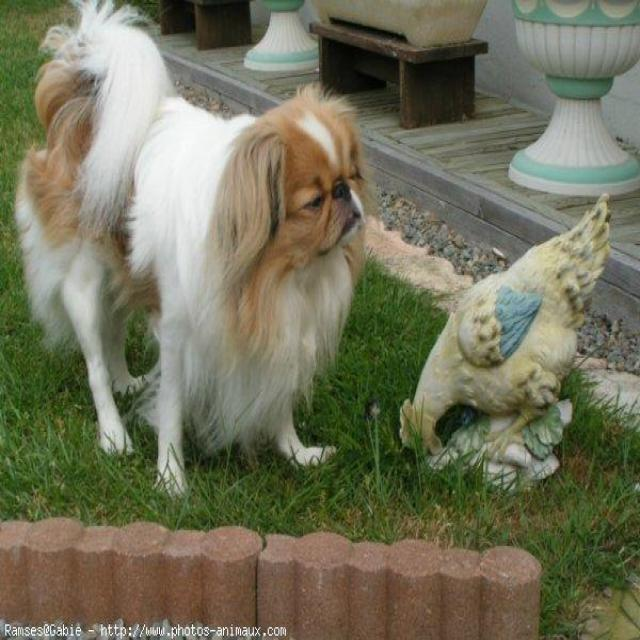husky: (17, 1, 373, 494)
